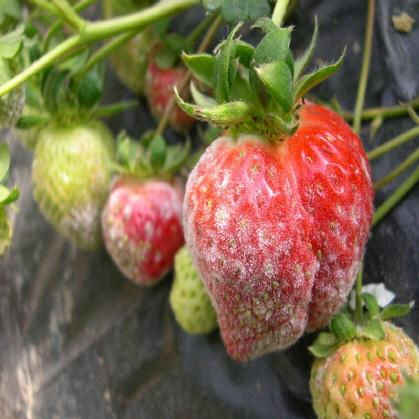Powdery Mildew Fruit: (175, 91, 375, 364), (33, 115, 118, 250), (309, 314, 418, 418), (99, 174, 185, 287), (143, 31, 222, 133), (0, 38, 27, 128)
